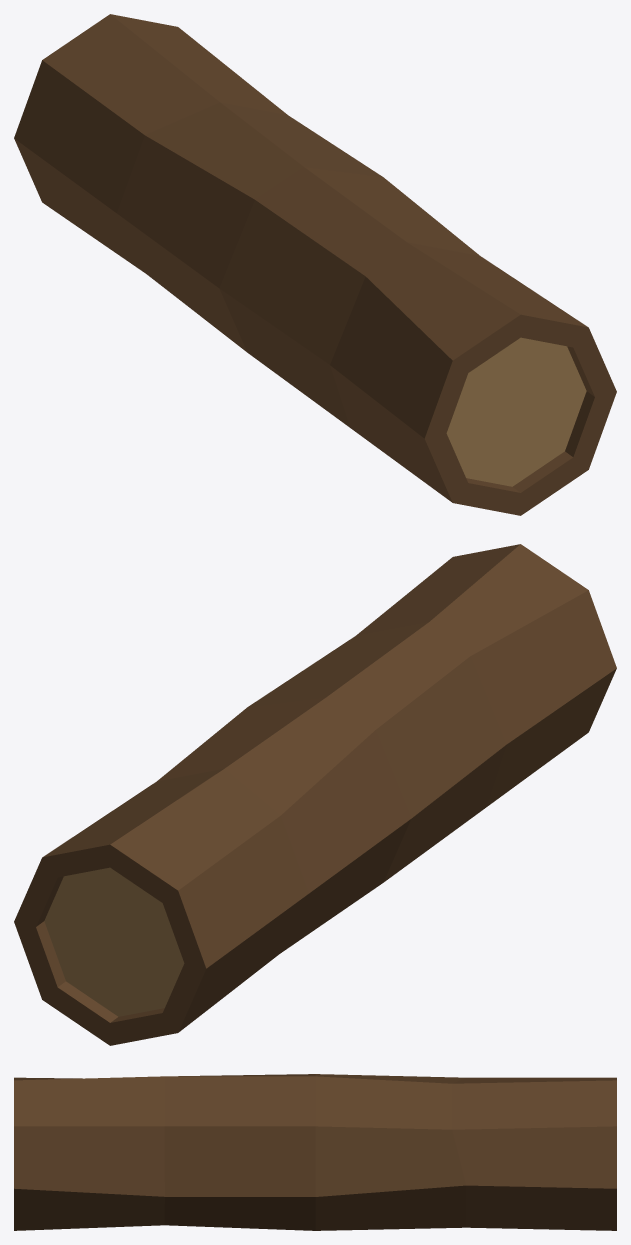
The model's file is BatangPohon5.fbx.
3 views of the same model, one above another, from view 1: azimuth 30°, elevation 25°; view 2: azimuth 150°, elevation 25°; view 3: azimuth 270°, elevation 25° (orthographic). The views are drawn at different scales.
Parts seen in each view (by area): view 1: log_8a; view 2: log_8a; view 3: log_8a.
Boxes of the visible parts, left/top/right/bottom form: log_8a: left=14, top=14, right=616, bottom=515; log_8a: left=14, top=544, right=616, bottom=1045; log_8a: left=14, top=1074, right=616, bottom=1230.
Bounding box in the file's own units: 53.77 × 53.18 × 197.
